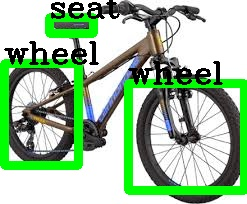seat: (49, 17, 93, 33)
wheel: (128, 83, 244, 190), (4, 63, 78, 165)
